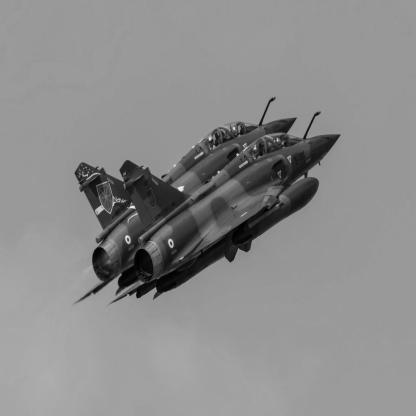Mirage2000: (73, 98, 298, 306), (107, 112, 342, 308)
